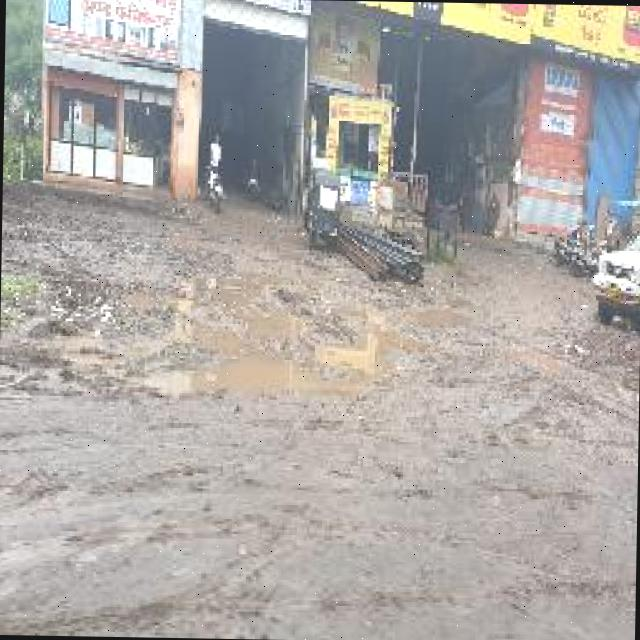stagnation: (155, 261, 474, 427)
